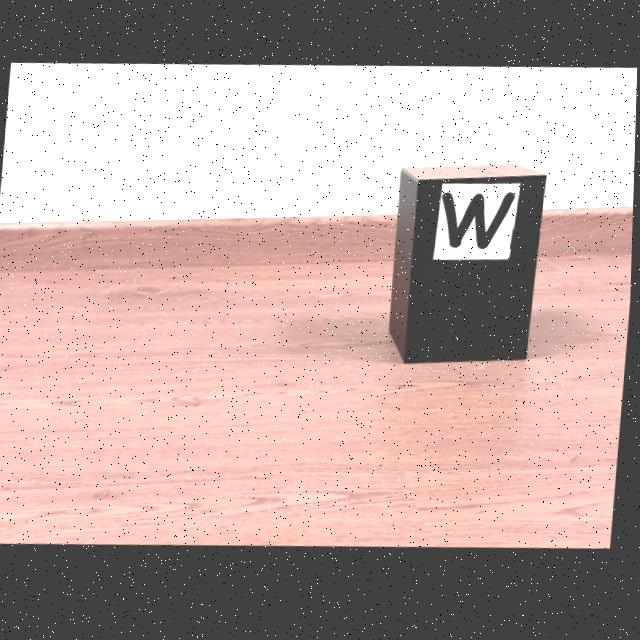W: (444, 197, 517, 254)
